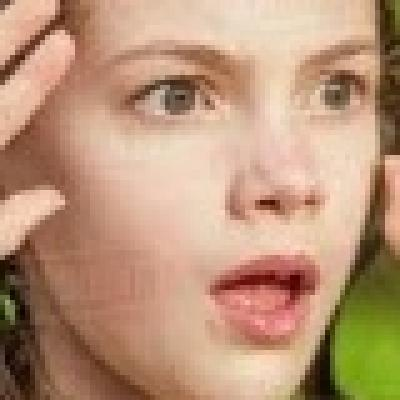surprise: (62, 0, 374, 393)
